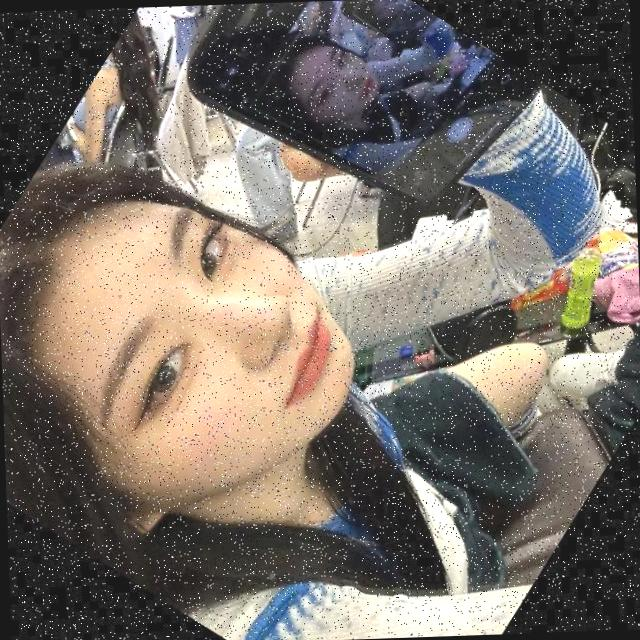phone: (183, 0, 551, 212)
